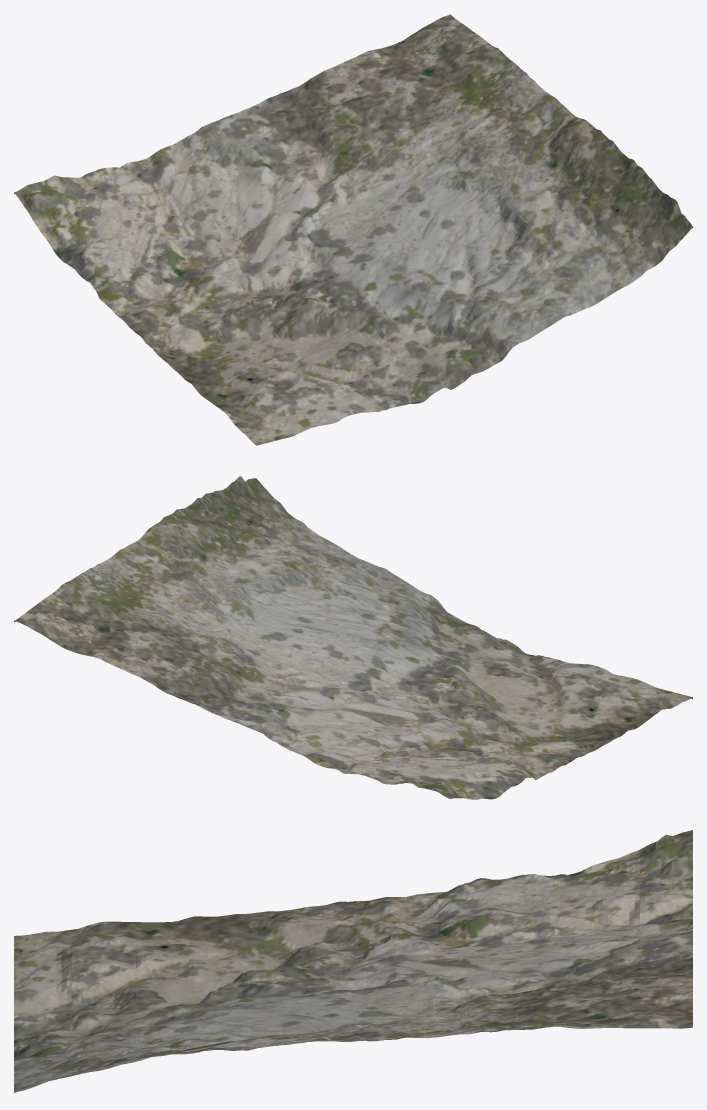
3 renders of one model, top to bottom at view 1: azimuth 30°, elevation 25°; view 2: azimuth 150°, elevation 25°; view 3: azimuth 270°, elevation 25°, orthographic. The views are drawn at different scales.
Size of the model in its own units: 250 by 82.16 by 241.
1 material, 1 textured.
